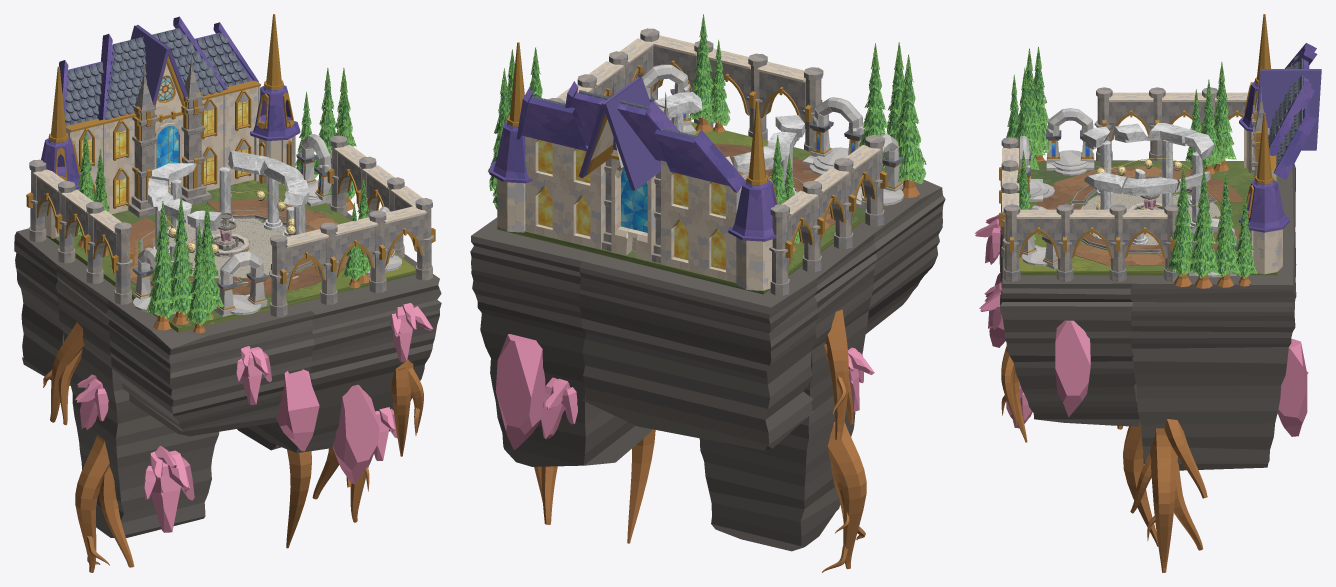
File: Garden.fbx
3 views of the same model, side by side, from view 1: azimuth 30°, elevation 25°; view 2: azimuth 150°, elevation 25°; view 3: azimuth 270°, elevation 25° (orthographic). The views are drawn at different scales.
Visible parts, largest first — view 1: Plane.078, Cube.389, Cube.423, Fountain.003, Cube.388, Circle.003, Cube.291, Cylinder.105, Cylinder.119, Cube.338, Cylinder.121, Cylinder.120 (+6 smaller); view 2: Plane.078, Cube.389, Cube.423, Cube.388, Fountain.003, Cube.291, Cylinder.105, Cylinder.125, Cube.303, Cylinder.120, Cube.339, Cylinder.126 (+3 smaller); view 3: Plane.078, Cube.423, Cube.389, Fountain.003, Cube.388, Circle.003, Cube.303, Cylinder.122, Cylinder.113, Cylinder.123, Cylinder.127, Cube.387 (+9 smaller).
Boxes of the visible parts, <box> form: Plane.078: <box>14,203,441,572</box>; Cube.389: <box>41,14,300,238</box>; Cube.423: <box>26,135,435,316</box>; Fountain.003: <box>148,150,309,283</box>; Cube.388: <box>46,179,415,332</box>; Circle.003: <box>110,199,348,296</box>; Cube.291: <box>214,251,268,316</box>; Cylinder.105: <box>145,201,175,330</box>; Cylinder.119: <box>169,197,193,324</box>; Cube.338: <box>284,134,331,206</box>; Cylinder.121: <box>185,223,212,333</box>; Cylinder.120: <box>201,201,223,324</box>; Plane.078: <box>470,167,945,572</box>; Cube.389: <box>489,42,777,290</box>; Cube.423: <box>548,28,887,295</box>; Cube.388: <box>497,122,915,294</box>; Fountain.003: <box>654,92,804,194</box>; Cube.291: <box>802,97,865,174</box>; Cylinder.105: <box>895,54,926,197</box>; Cylinder.125: <box>689,14,714,132</box>; Cube.303: <box>856,134,903,209</box>; Cylinder.120: <box>859,43,887,170</box>; Cube.339: <box>641,64,696,134</box>; Cylinder.126: <box>707,39,730,132</box>; Plane.078: <box>974,160,1308,572</box>; Cube.423: <box>999,87,1247,281</box>; Cube.389: <box>1239,14,1321,274</box>; Fountain.003: <box>1071,123,1220,244</box>; Cube.388: <box>1019,161,1277,275</box>; Circle.003: <box>1036,166,1243,265</box>; Cube.303: <box>1046,108,1094,175</box>; Cylinder.122: <box>1188,167,1218,288</box>; Cylinder.113: <box>1167,165,1194,287</box>; Cylinder.123: <box>1214,172,1240,287</box>; Cylinder.127: <box>1213,62,1236,171</box>; Cube.387: <box>1070,176,1217,253</box>.
Bounding box in the file's own units: 16164 × 23558 × 16367.
